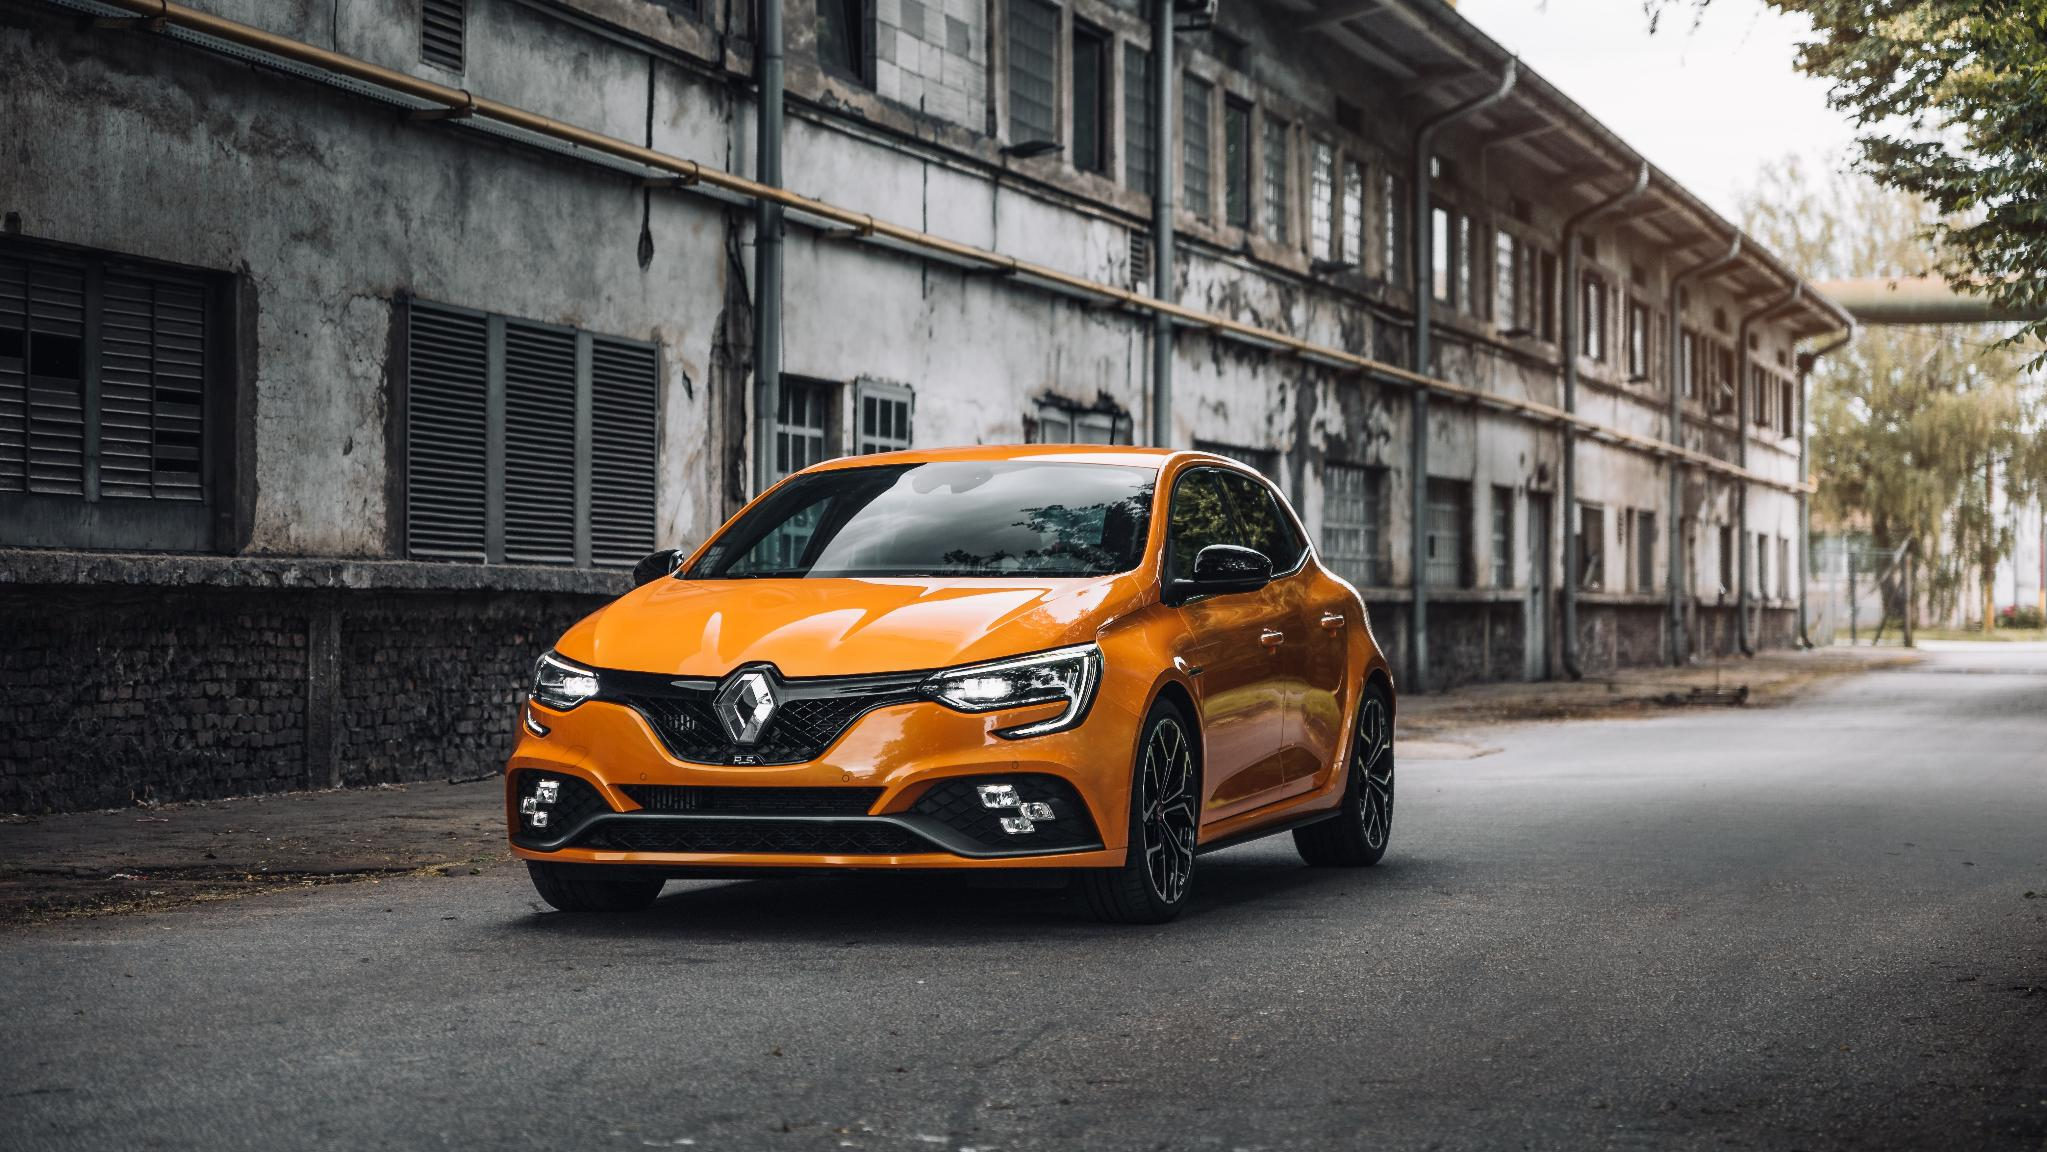Renault: (700, 643, 797, 765)
